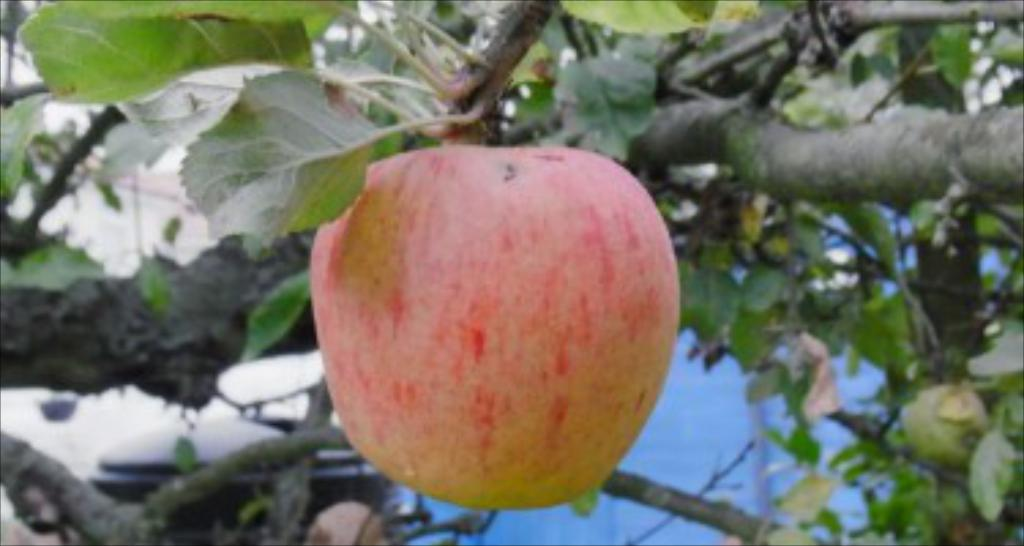Apple: (308, 144, 679, 510), (898, 382, 991, 466)
